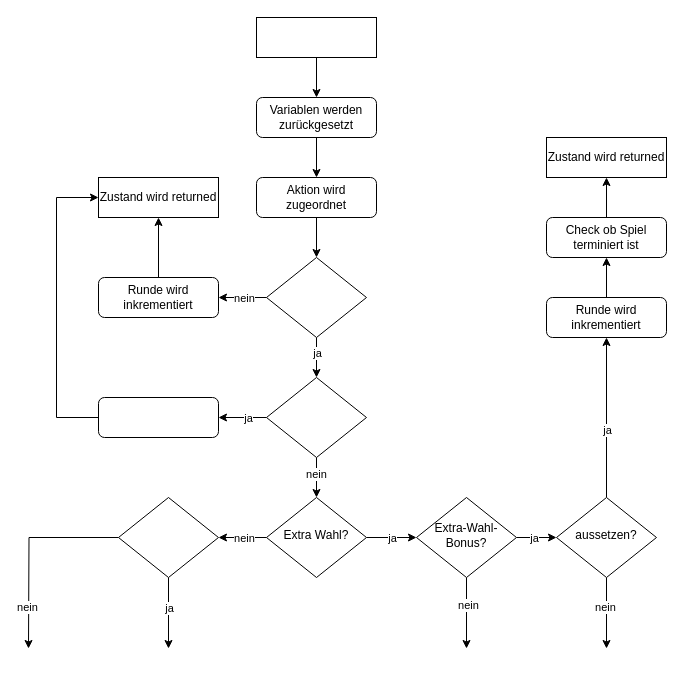
This 685x674 diagram has some shape labels left out. Each missing label, with the centre of its shape:
"Aktion wird entgegengenommen" belongs at (x=316, y=37).
"Bonusrunde?" belongs at (x=168, y=537).
"gültige Aktion?" belongs at (x=316, y=297).
"Neuer-Wurf Bonus?" belongs at (x=316, y=417).
"Würfel werden neu geworfen" belongs at (x=158, y=417).
